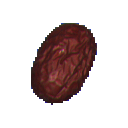gd: (25, 14, 111, 123)
